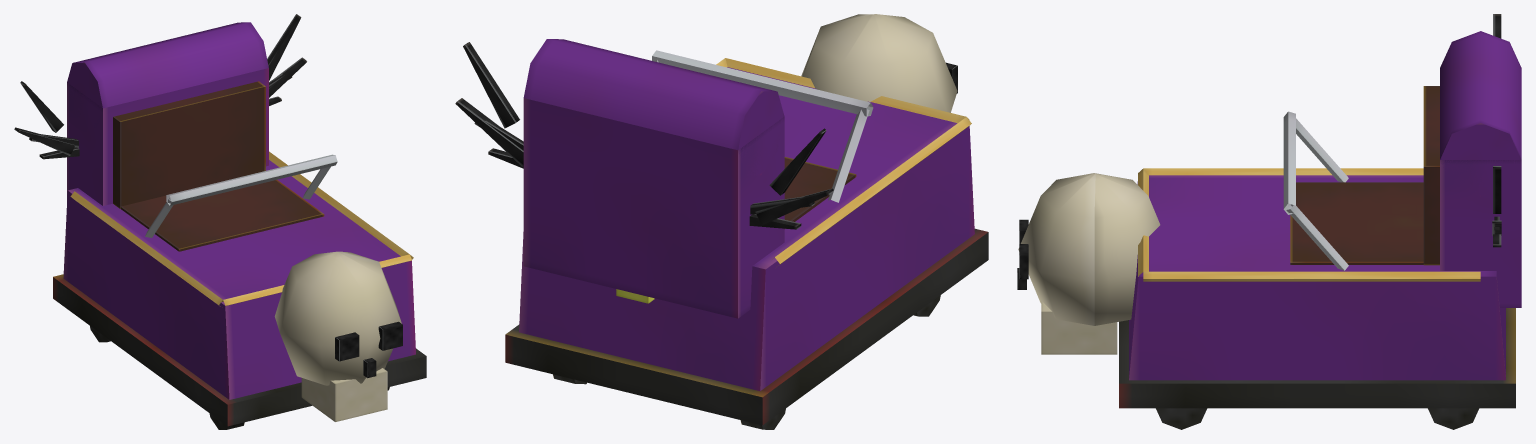
The model's file is ghost_car.obj.
3 views of the same model, side by side, from view 1: azimuth 30°, elevation 25°; view 2: azimuth 150°, elevation 25°; view 3: azimuth 270°, elevation 25° (orthographic). The views are drawn at different scales.
Visible parts, largest first — view 1: ghost_car; view 2: ghost_car; view 3: ghost_car.
Part boxes in pixels (<box>): ghost_car: <box>14,14,426,429</box>; ghost_car: <box>455,14,988,429</box>; ghost_car: <box>1017,14,1521,429</box>.
Bounding box in the file's own units: 1.39 × 1.25 × 1.85.
1 material, 1 textured.
